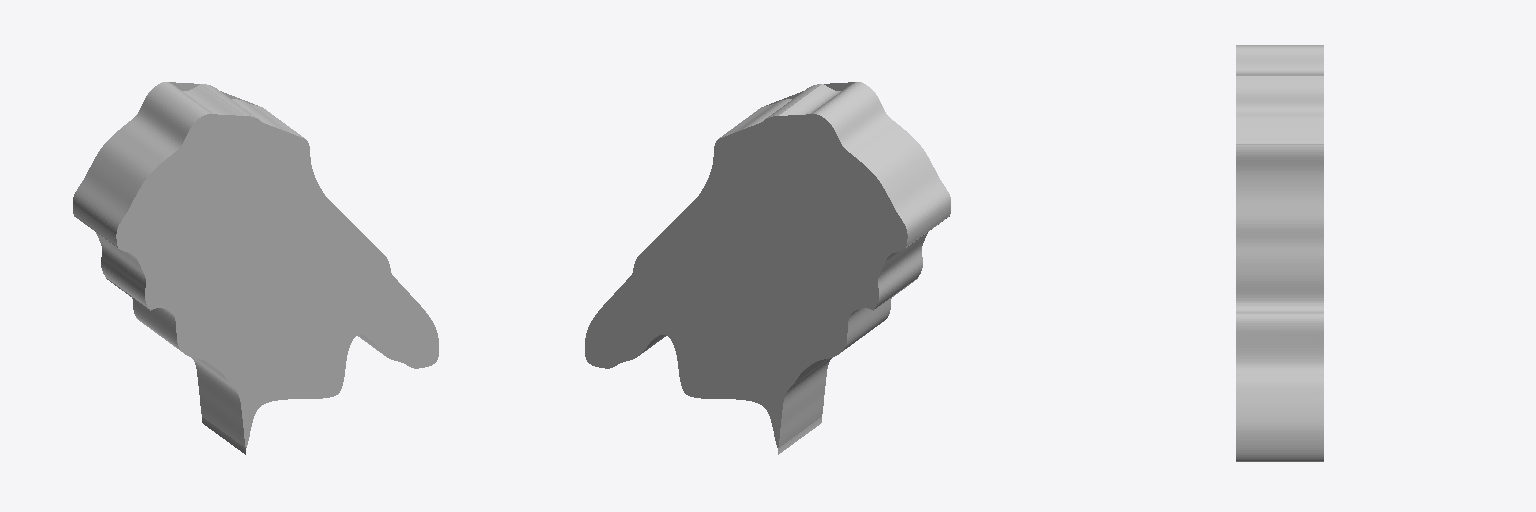
3 views of the same model, side by side, from view 1: azimuth 30°, elevation 25°; view 2: azimuth 150°, elevation 25°; view 3: azimuth 270°, elevation 25° (orthographic).
Parts seen in each view (by area): view 1: 平面; view 2: 平面; view 3: 平面.
Boxes of the visible parts, x1,y1,x2,y2 form: 平面: [73, 82, 438, 454]; 平面: [585, 82, 950, 454]; 平面: [1236, 45, 1323, 461].
Size of the model in its own units: 0.85 by 0.88 by 0.2.